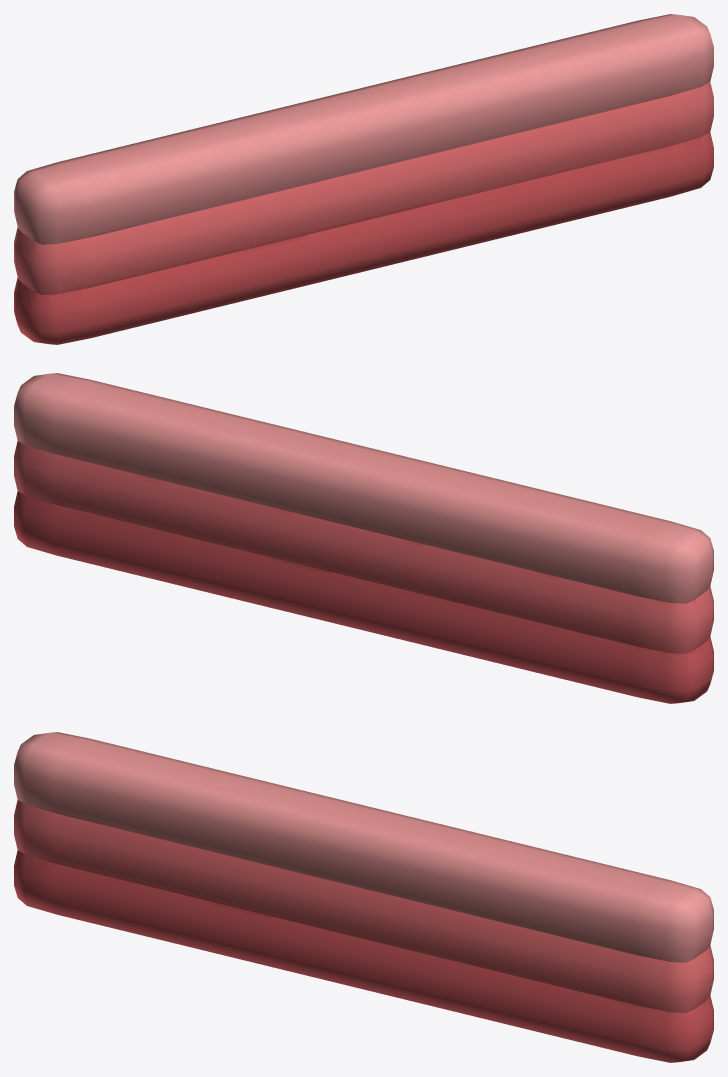
The model's file is ColorBarWall.fbx.
The picture shows the model from 3 angles, top to bottom: view 1: azimuth 30°, elevation 25°; view 2: azimuth 150°, elevation 25°; view 3: azimuth 330°, elevation 25°; orthographic projection.
Visible parts, largest first — view 1: ColorBarWall; view 2: ColorBarWall; view 3: ColorBarWall.
Part boxes in pixels (x1,y1,x2,y2): ColorBarWall: [14, 14, 713, 344]; ColorBarWall: [14, 373, 713, 703]; ColorBarWall: [14, 732, 713, 1062].
Size of the model in its own units: 888 by 201 by 88.71.
